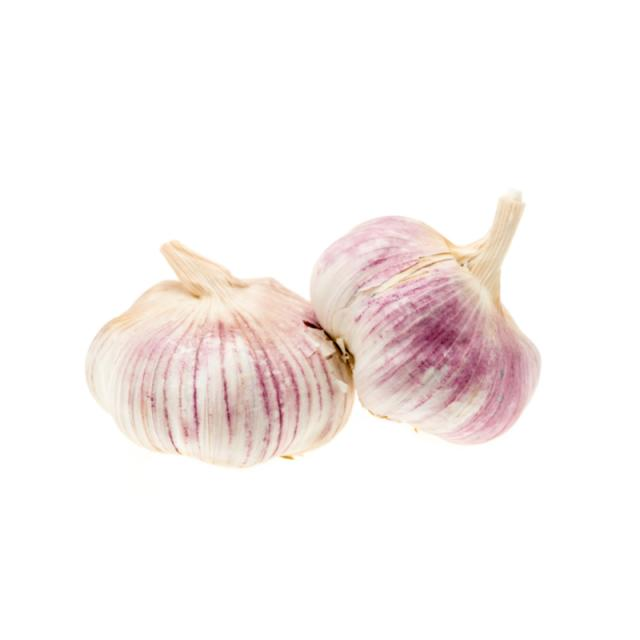garlic: (73, 189, 544, 469)
